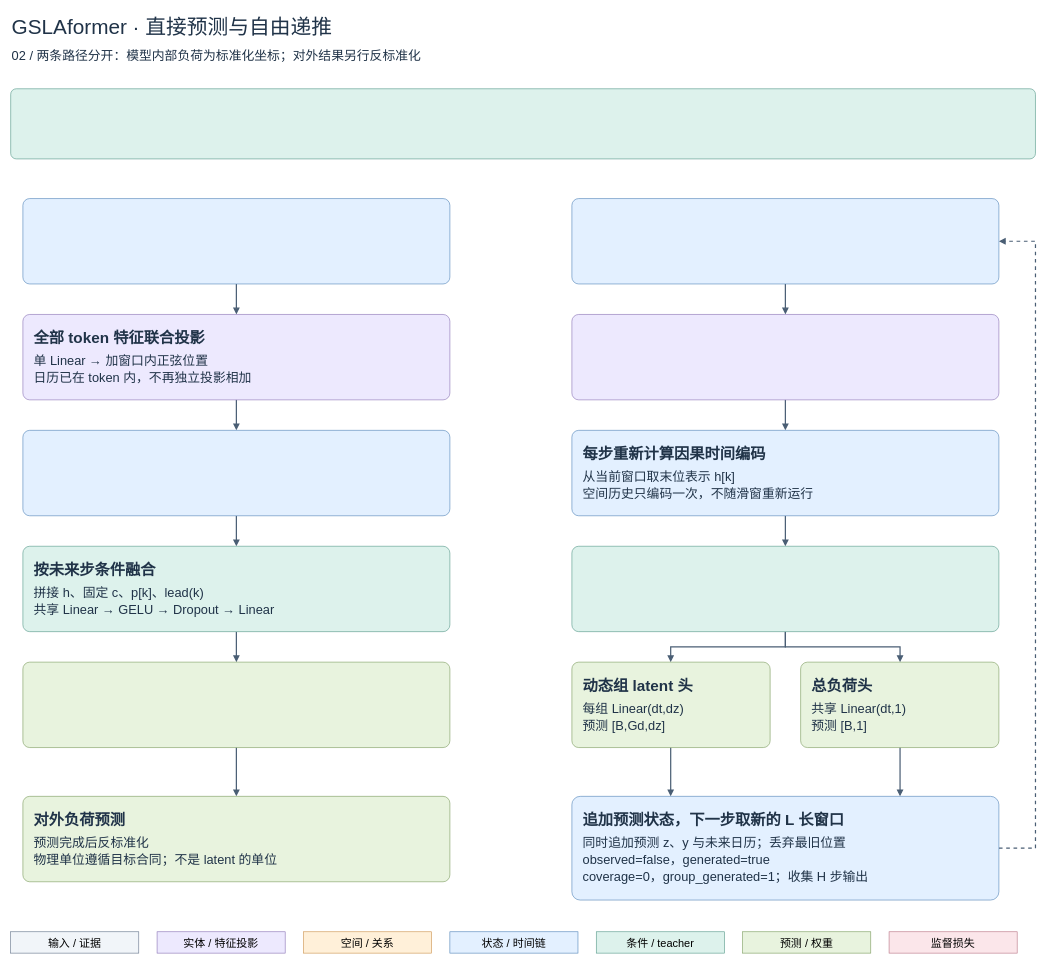
Image size: 1052x964. Some labels were removed from this diagram. The centre of each missing label's shape, as x and y in pixels:
"A 阶段 / direct：真实历史窗口 z 展平 + 真实负荷 + 观测/生成标记 逐组 coverage/生成标记 + 日历四维" goes at pixel 236 241.
"仅负荷头；没有 latent 预测和回灌 各步共享 Linear(dt,1) 收集 H 个预测，得到 [B,H,1]" goes at pixel 236 705.
"全部 token 特征联合投影 单 Linear → 加当前窗口内正弦位置 每步重算；不是 KV cache 或跨起点记忆" goes at pixel 785 357.
"同一起点只准备一次 历史编码得到 z、c；完整起点已知未来路径经双向注意力得到 p[1:H]；lead 相对原起点，不随滑窗重置。" goes at pixel 522 123.
"因果时间编码只运行一次 沿历史时间轴计算；取末位表示 h 所有未来步共享这个历史表示" goes at pixel 236 473.
"按未来步条件融合 拼接当前 h[k]、固定 c、p[k]、lead(k) p 来自完整起点已知路径，不刷新晚到条件" goes at pixel 785 589.
"自由递推：内部滚动状态窗口 由真实历史初始化；窗口长度始终为 L 预测写入内部状态，不改原始 target_history" goes at pixel 785 241.
